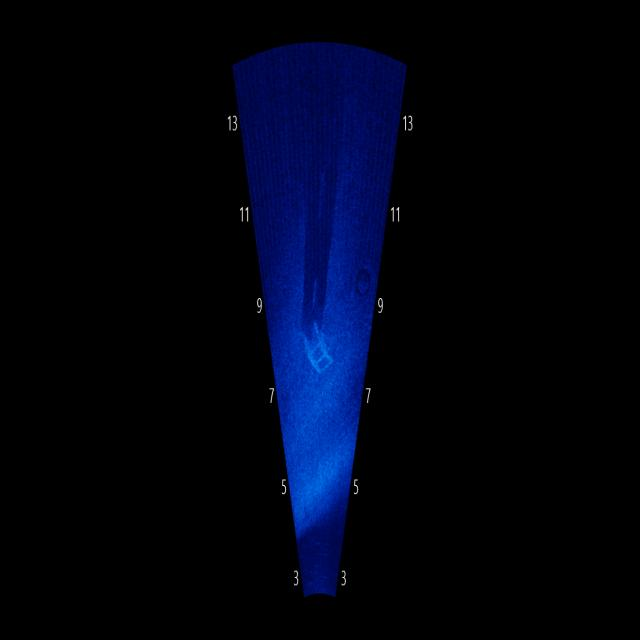square: (292, 306, 344, 389)
